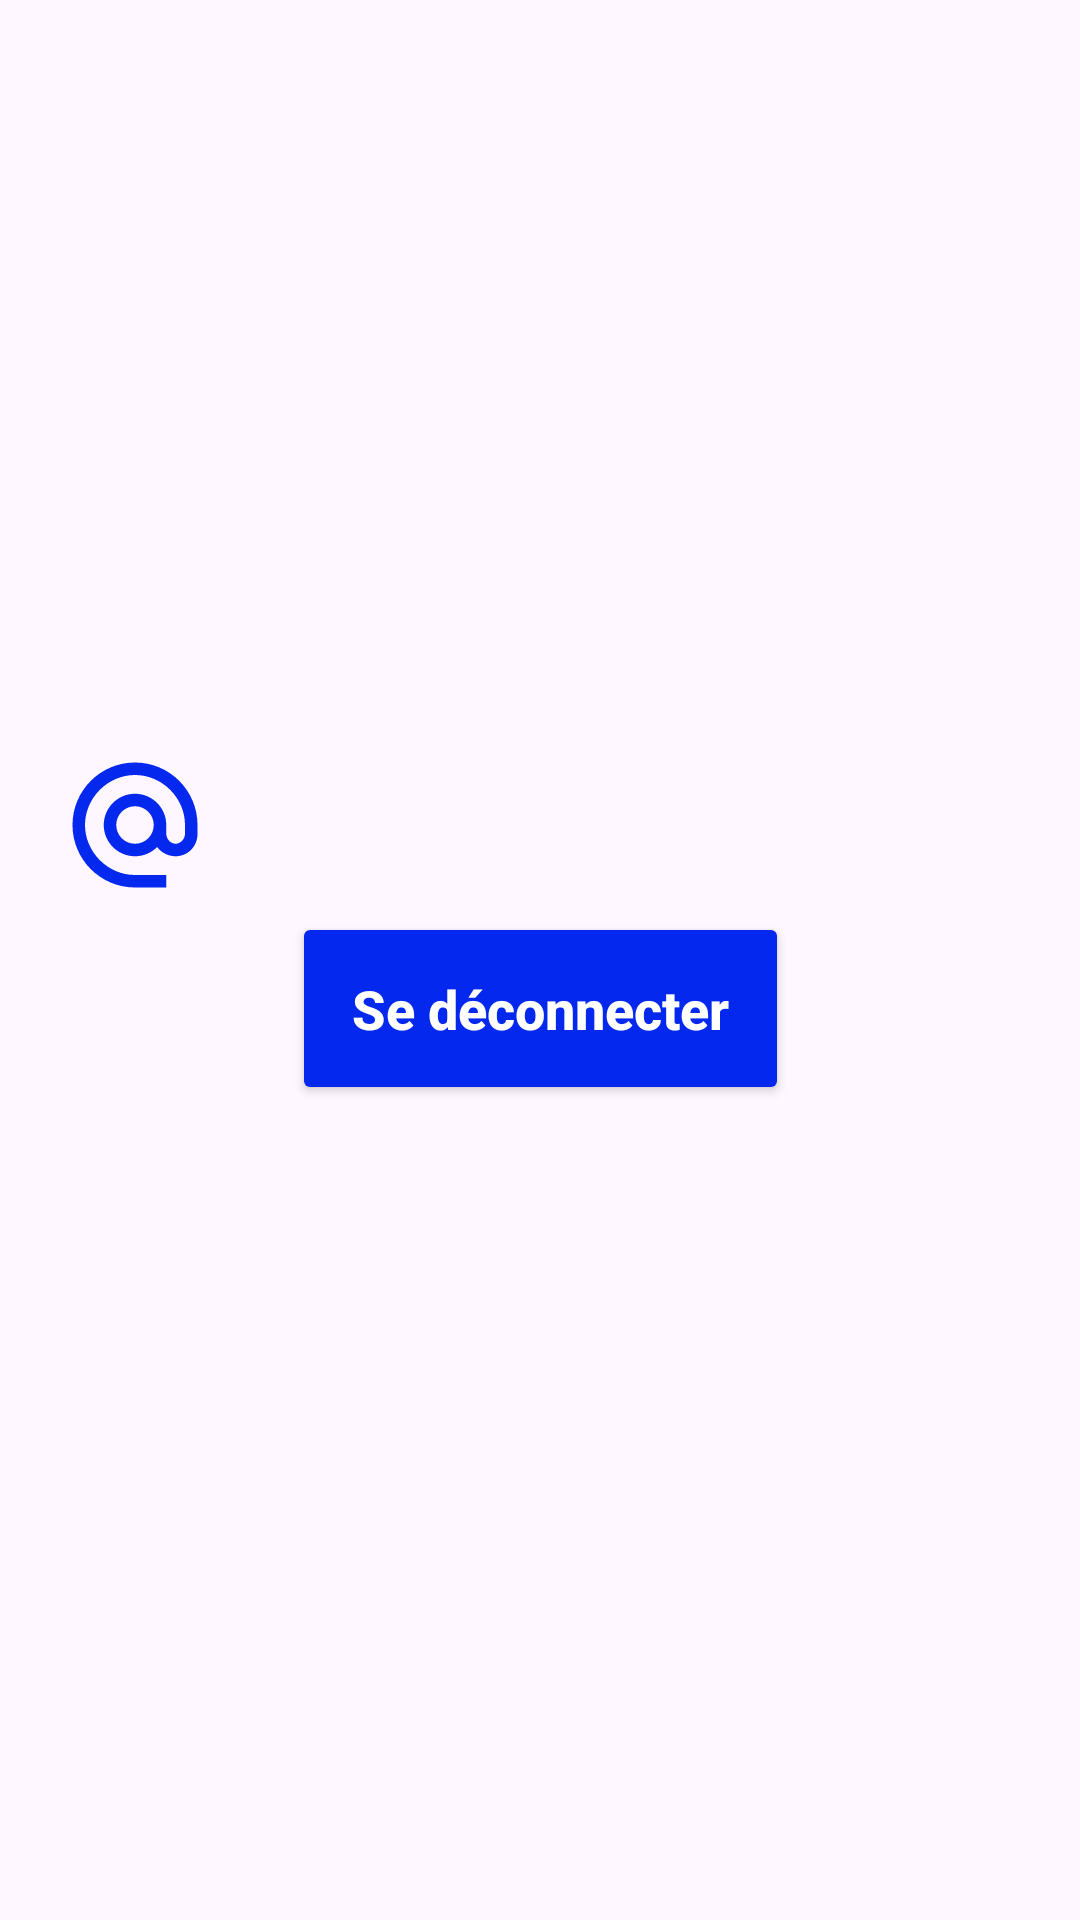

Screen size 1080 x 1920. Icon name, then its center in pixels as (x=x, y=y):
email: (x=135, y=825)
